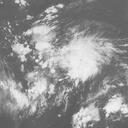cyclone: (52, 28, 111, 85)
